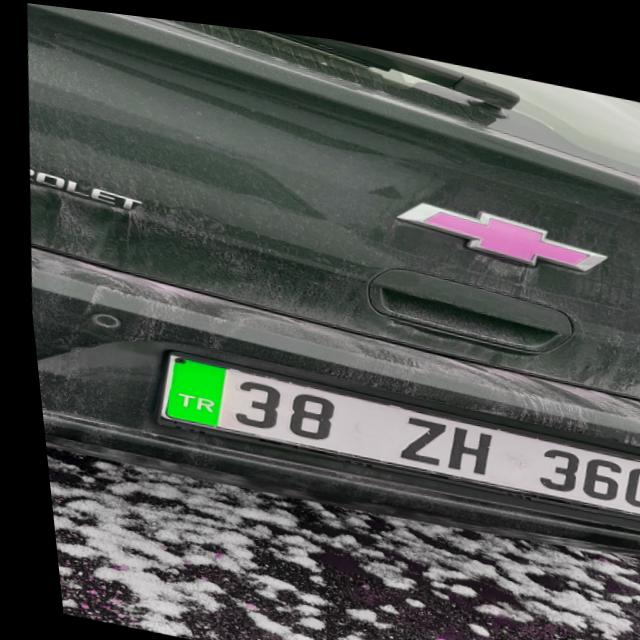license_plate: (148, 348, 640, 509)
